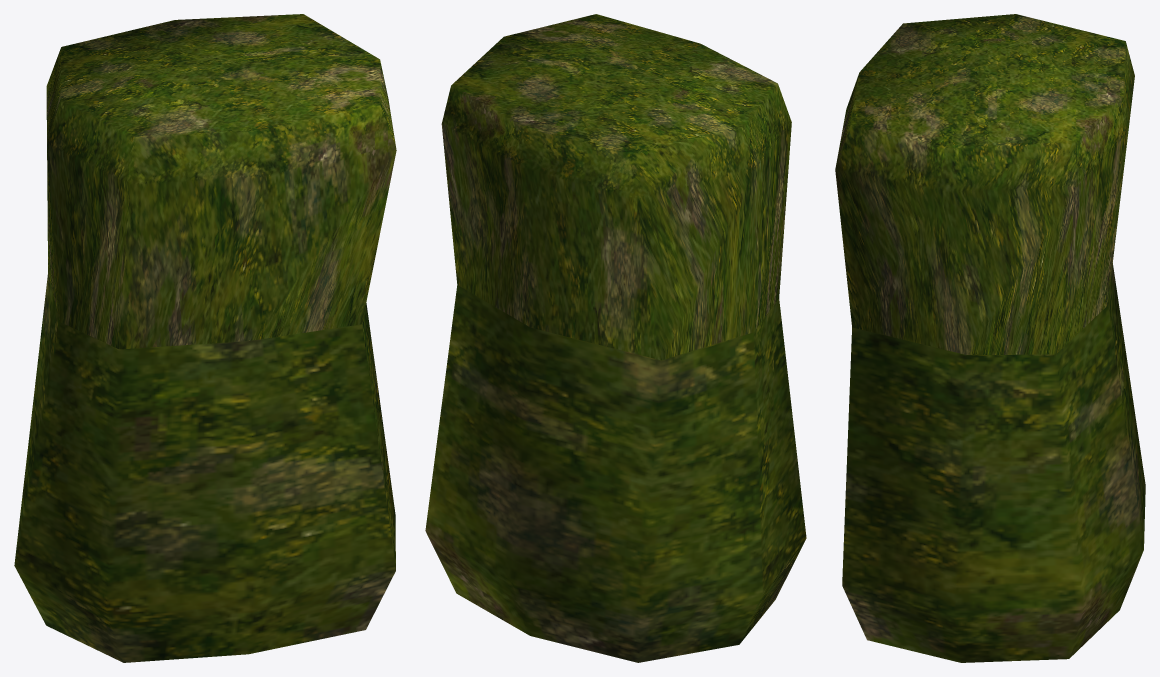
Rendered from OVERHILL_A_01_LINE350.fbx.
3 renders of one model, left to right at view 1: azimuth 30°, elevation 25°; view 2: azimuth 150°, elevation 25°; view 3: azimuth 270°, elevation 25°, orthographic. The views are drawn at different scales.
Parts seen in each view (by area): view 1: OVERHILL_A_01_LINE350; view 2: OVERHILL_A_01_LINE350; view 3: OVERHILL_A_01_LINE350.
Boxes of the visible parts, left/top/right/bottom form: OVERHILL_A_01_LINE350: left=14, top=14, right=396, bottom=662; OVERHILL_A_01_LINE350: left=425, top=14, right=806, bottom=662; OVERHILL_A_01_LINE350: left=835, top=14, right=1145, bottom=662.
Size of the model in its own units: 20083 by 30685 by 16336.
Materials: 1 (1 with a texture image).
